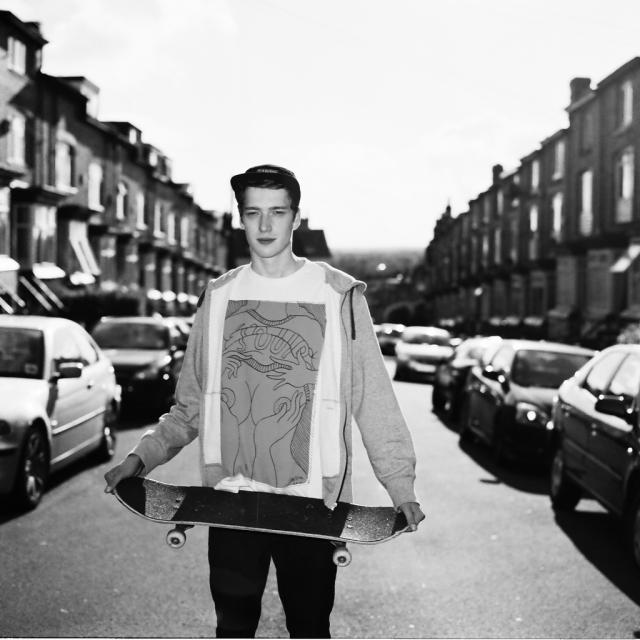car: (398, 323, 459, 384)
